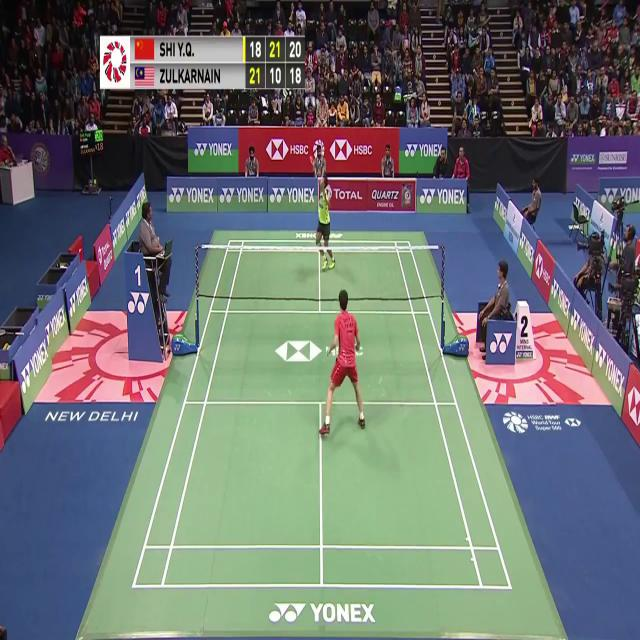Shuttlecock: (288, 88, 294, 99)
